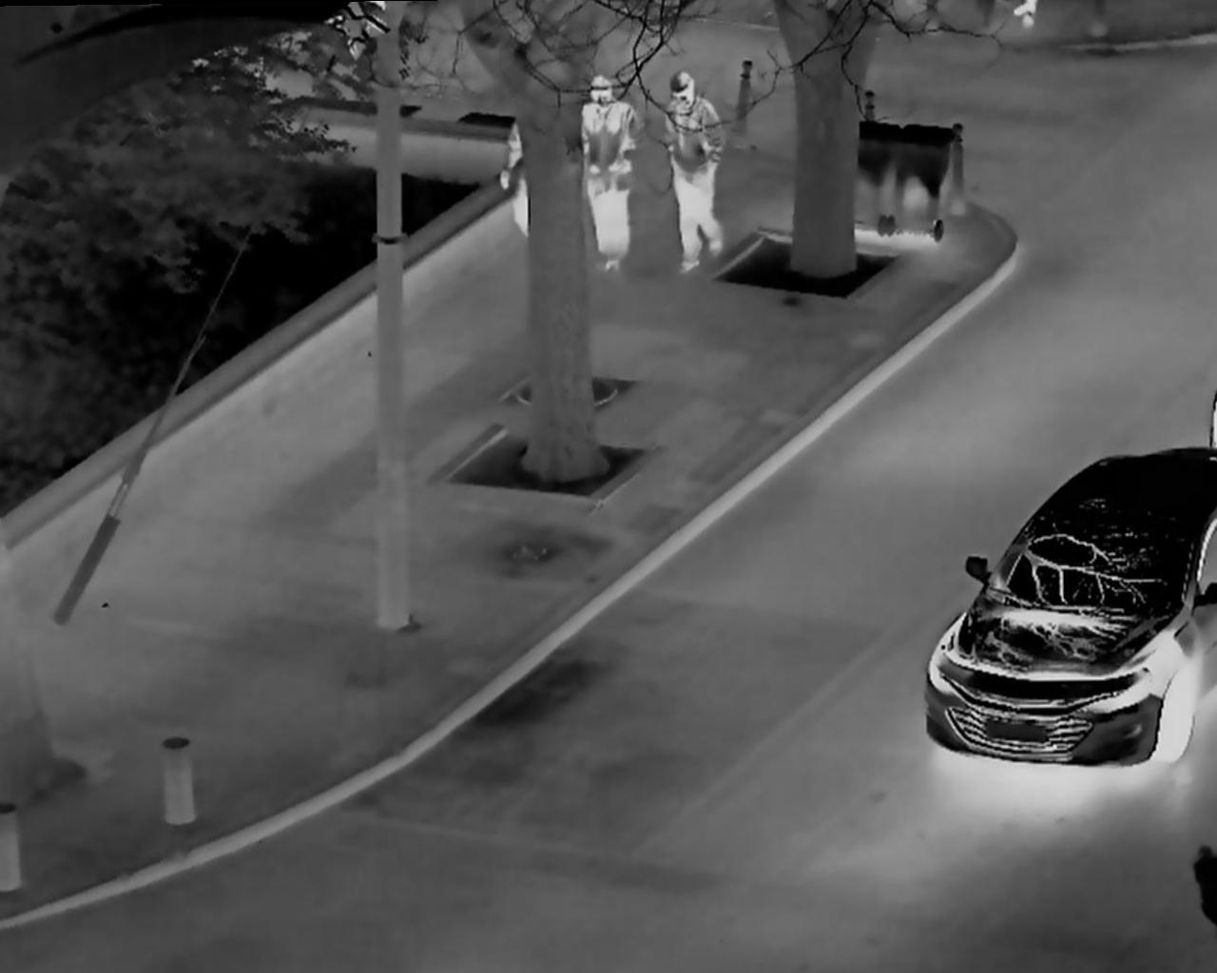person: (655, 63, 738, 290), (582, 70, 650, 274)
